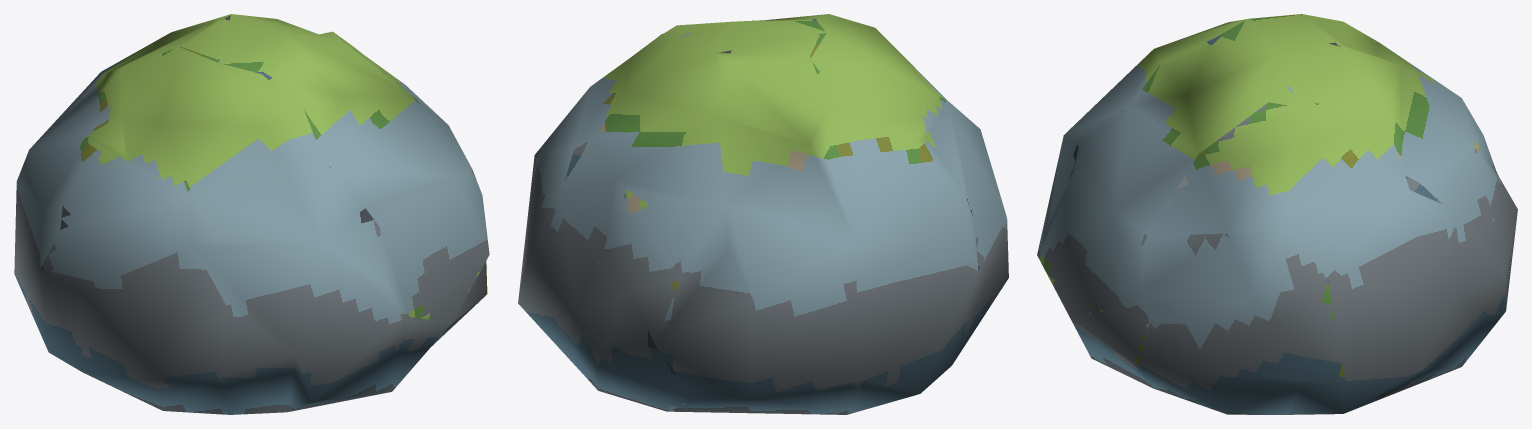
File: rock-a.glb
3 views of the same model, side by side, from view 1: azimuth 30°, elevation 25°; view 2: azimuth 150°, elevation 25°; view 3: azimuth 270°, elevation 25° (orthographic). The views are drawn at different scales.
Parts seen in each view (by area): view 1: tripo_node_d5dfefa0-44d6-4b02-8ea4-9b70e38203e3; view 2: tripo_node_d5dfefa0-44d6-4b02-8ea4-9b70e38203e3; view 3: tripo_node_d5dfefa0-44d6-4b02-8ea4-9b70e38203e3.
Boxes of the visible parts, box(x1,y1,x2,y2) form: tripo_node_d5dfefa0-44d6-4b02-8ea4-9b70e38203e3: box(14, 14, 489, 414); tripo_node_d5dfefa0-44d6-4b02-8ea4-9b70e38203e3: box(518, 14, 1008, 414); tripo_node_d5dfefa0-44d6-4b02-8ea4-9b70e38203e3: box(1037, 14, 1517, 414).
Size of the model in its own units: 1 by 0.6783 by 0.9976.
1 material, 1 textured.
